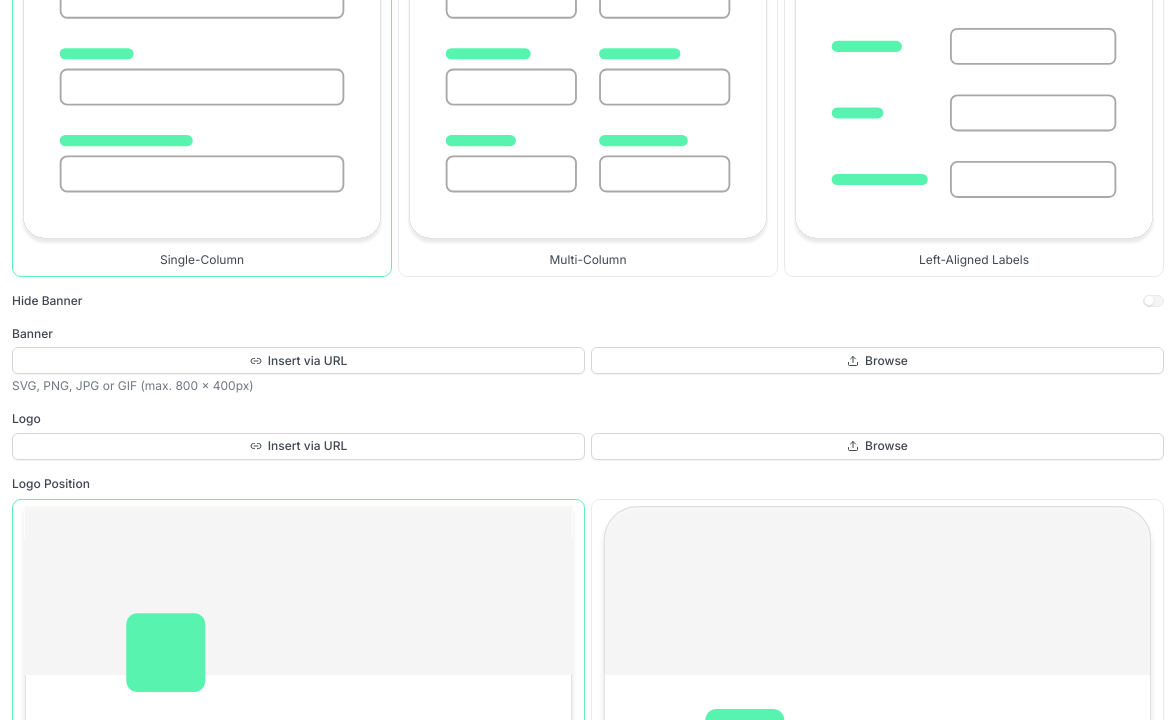
Scenario: AppearanceSettings › URL input buttons › shows validation error for invalid logo URL
(page scrolled)
Click the 1st button "Insert via URL" at x=298, y=360, box top-left (12, 347), bottom-right (585, 374)
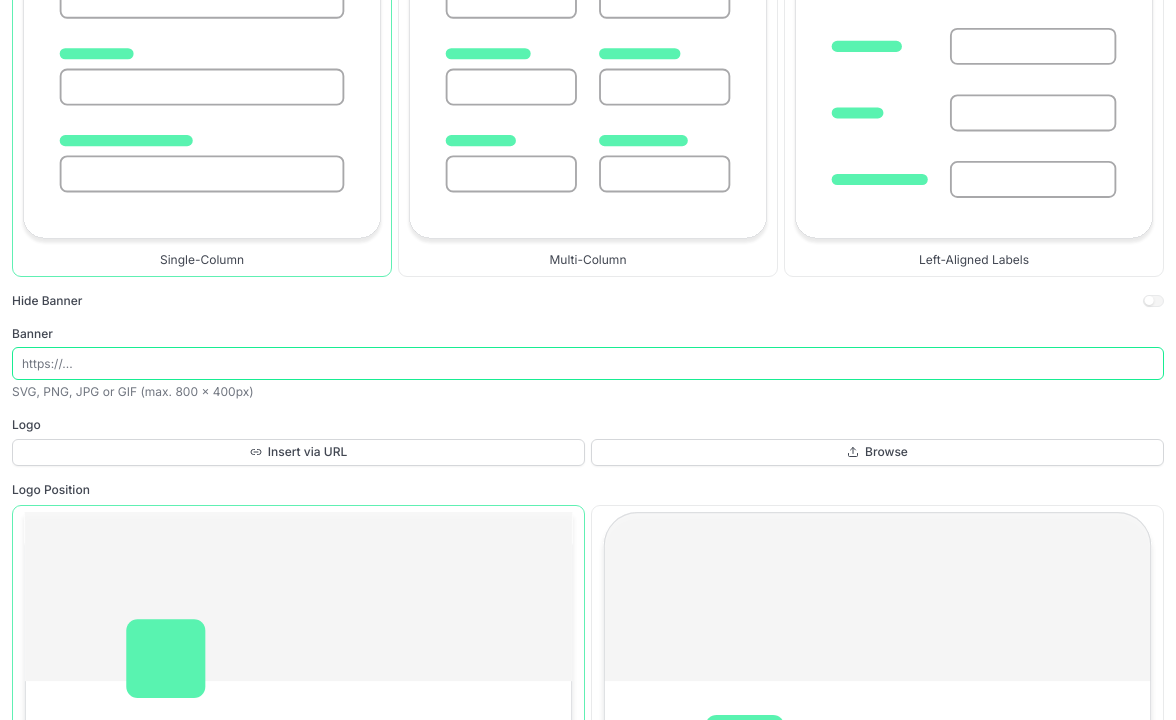
Type "notaurl" into the field with placeholder "https://..." at x=588, y=364, box top-left (12, 347), bottom-right (1164, 380)
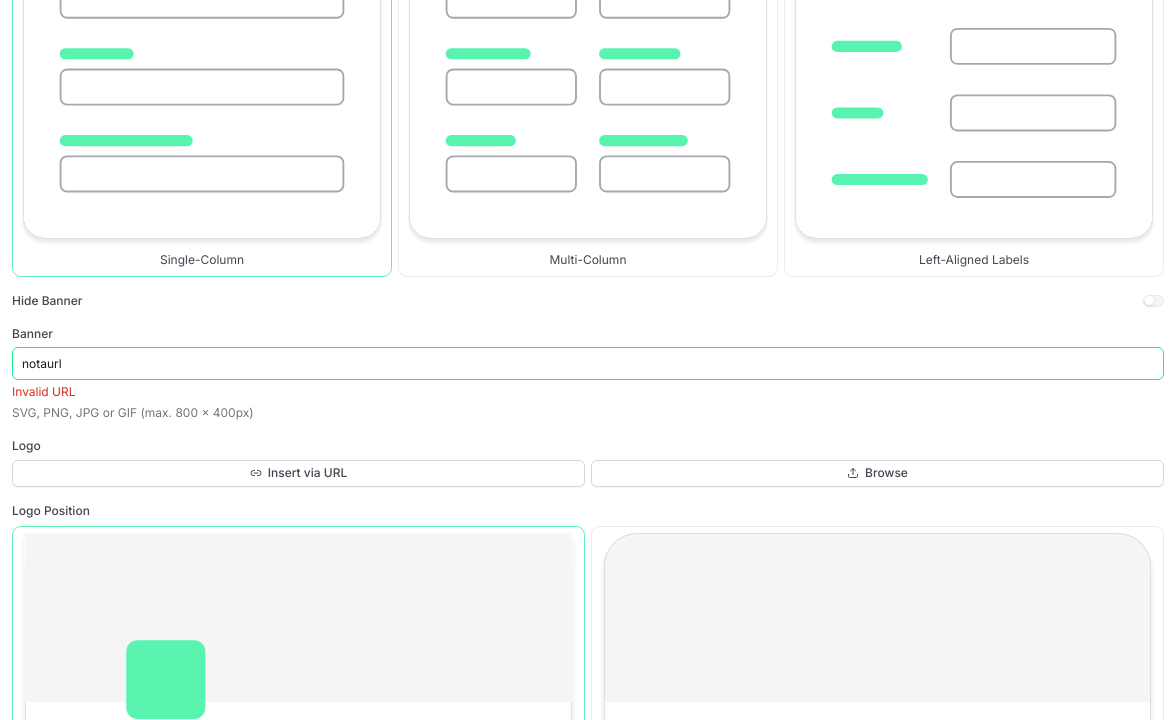
Result: the text "Invalid URL" is shown at top-left (12, 384), bottom-right (76, 399)
